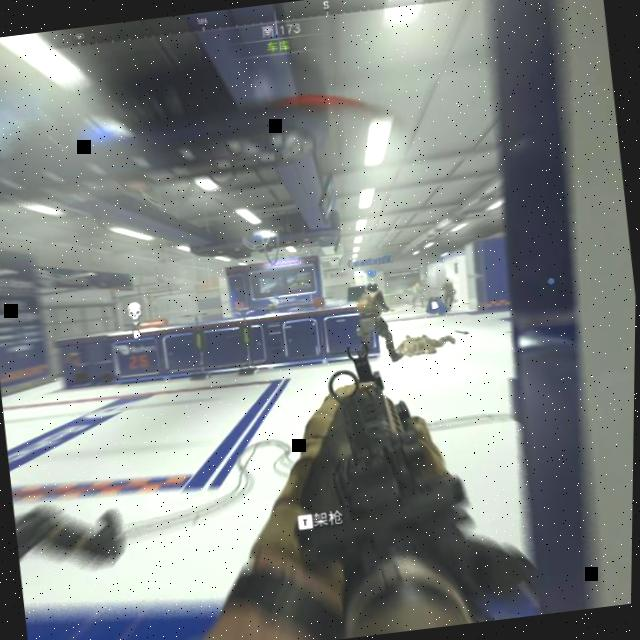MW2_body: (439, 276, 459, 312)
